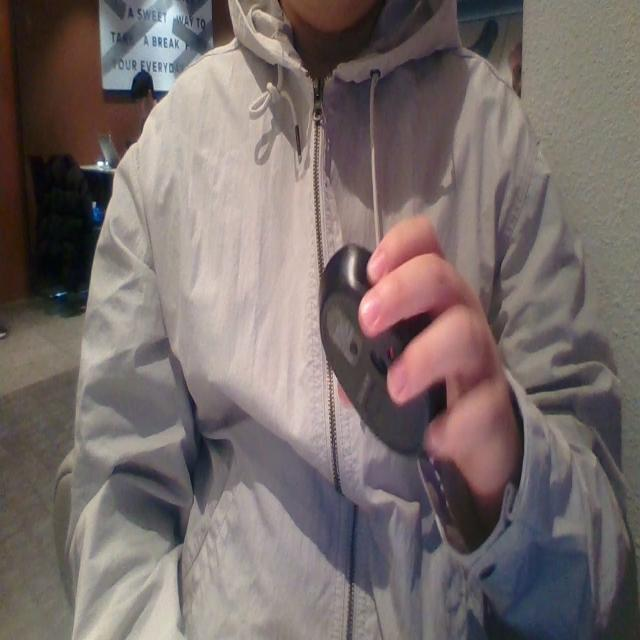grab_mouse: (322, 201, 516, 512)
mouse: (304, 235, 442, 447)
